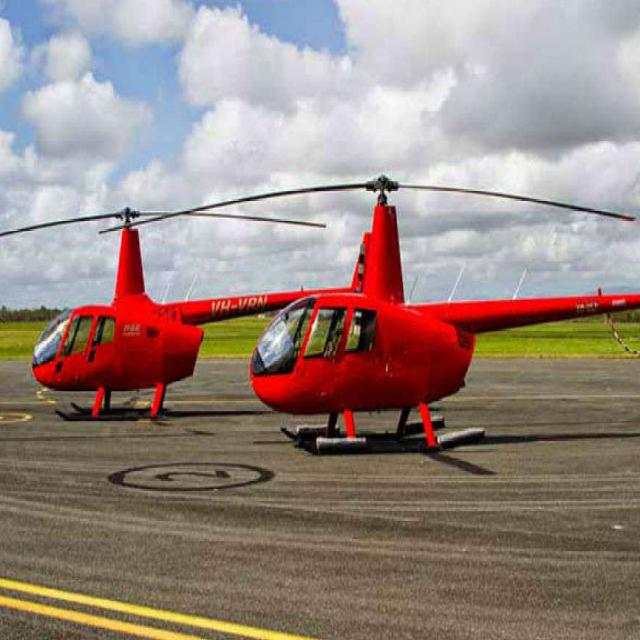helicopter: (141, 172, 640, 458), (1, 204, 345, 407)
